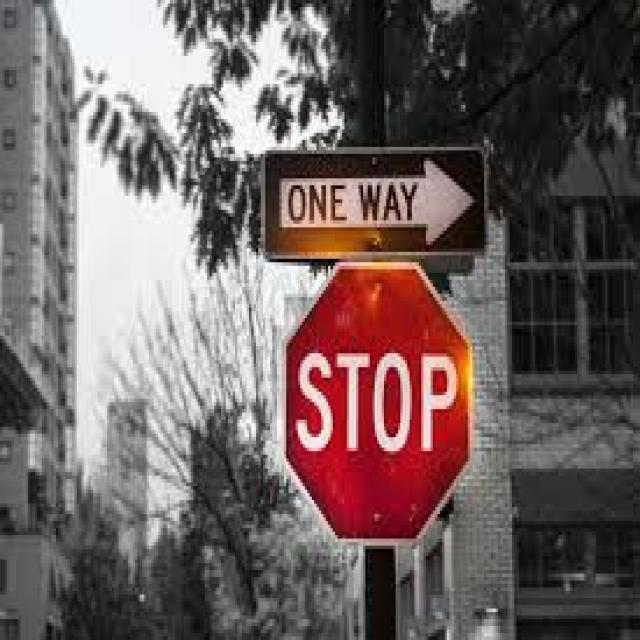stop-sign: (293, 276, 480, 532)
